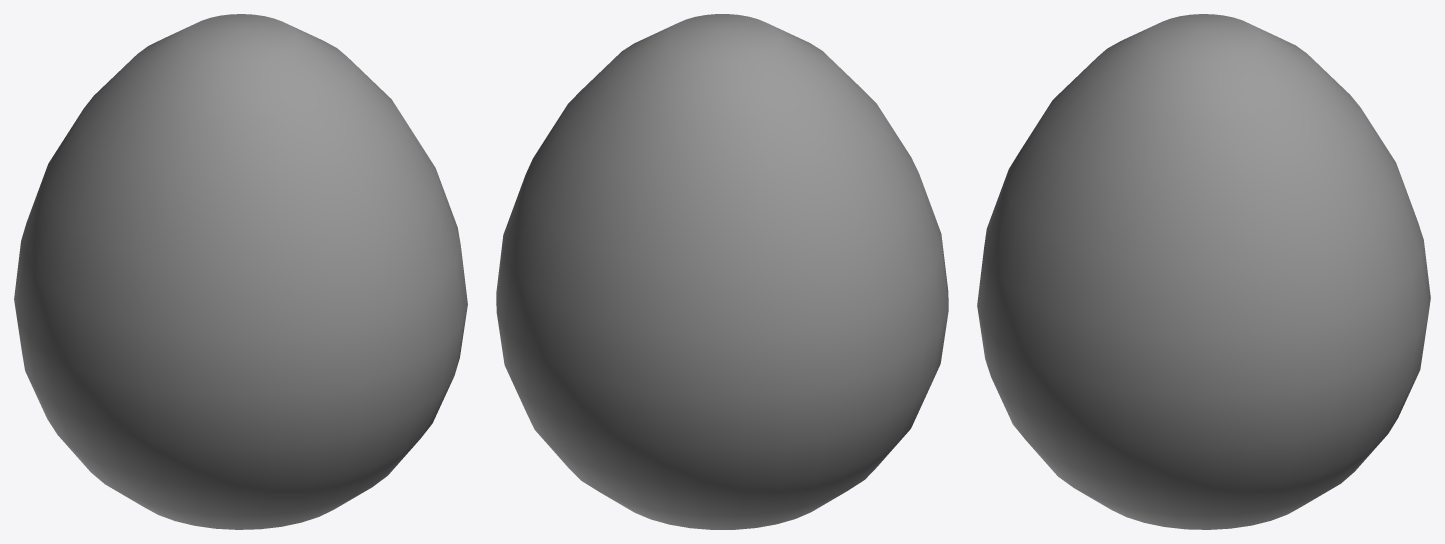
The model's file is Grey Egg.gltf.
3 renders of one model, left to right at view 1: azimuth 30°, elevation 25°; view 2: azimuth 150°, elevation 25°; view 3: azimuth 270°, elevation 25°, orthographic.
Visible parts, largest first — view 1: EGG; view 2: EGG; view 3: EGG.
Part boxes in pixels (x1=…): EGG: x1=14, y1=14, x2=467, y2=529; EGG: x1=496, y1=14, x2=948, y2=529; EGG: x1=977, y1=14, x2=1430, y2=529.
Bounding box in the file's own units: 1.62 × 1.89 × 1.62.
Materials: 1 (1 with a texture image).
